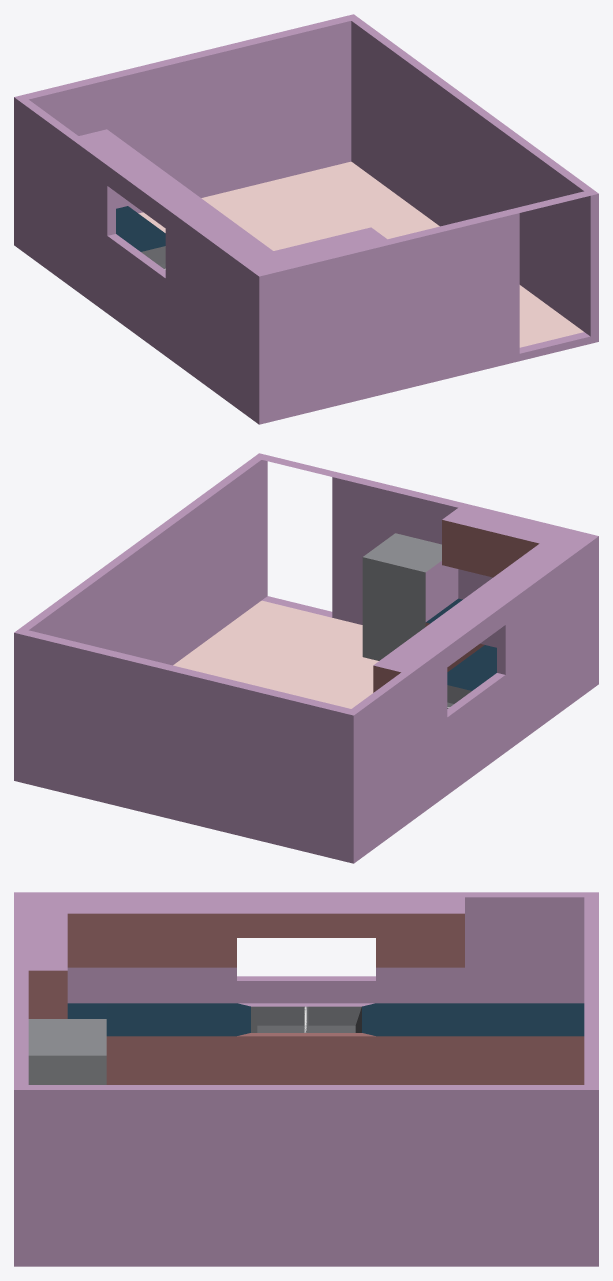
File: kitchen.fbx
3 renders of one model, top to bottom at view 1: azimuth 30°, elevation 25°; view 2: azimuth 150°, elevation 25°; view 3: azimuth 270°, elevation 25°, orthographic. The views are drawn at different scales.
Visible parts, largest first — view 1: Cube; view 2: Cube; view 3: Cube.
Boxes of the visible parts, x1=… form: Cube: x1=14, y1=14, x2=598, y2=424; Cube: x1=14, y1=453, x2=598, y2=863; Cube: x1=14, y1=892, x2=598, y2=1266.
Size of the model in its own units: 2400 by 1000 by 3000.
